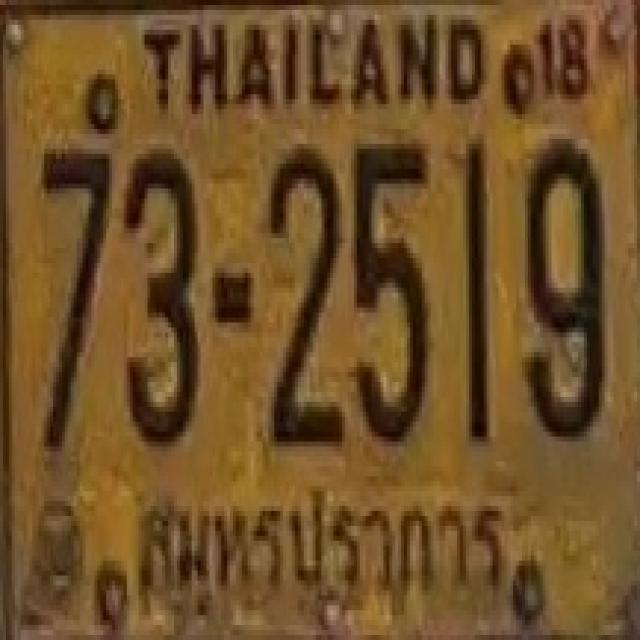1: (462, 139, 488, 441)
2: (267, 141, 341, 444)
3: (123, 146, 196, 444)
5: (351, 139, 428, 441)
7: (38, 144, 109, 446)
9: (524, 134, 603, 437)
SPK: (127, 466, 519, 612)
